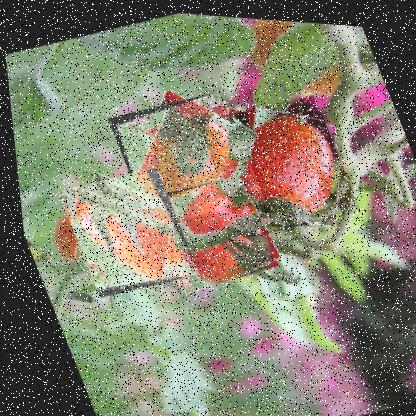tomato: (190, 81, 359, 242), (100, 79, 262, 231), (48, 158, 194, 303), (132, 163, 278, 297)
